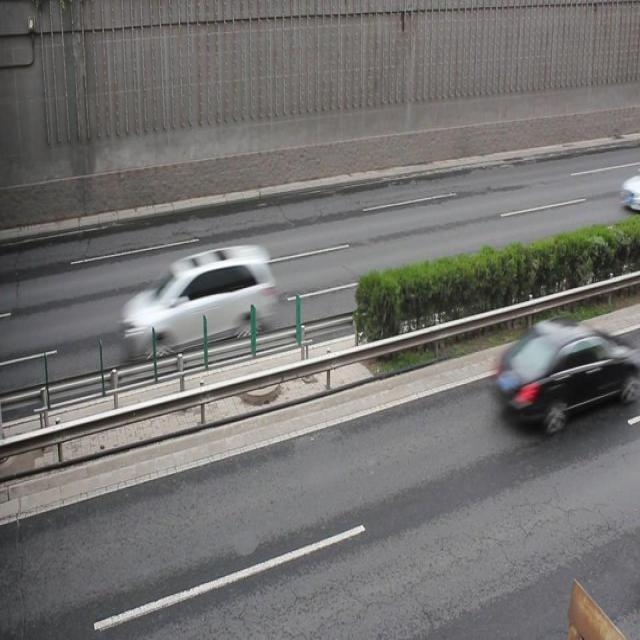car: (120, 247, 274, 361), (494, 320, 620, 430)
